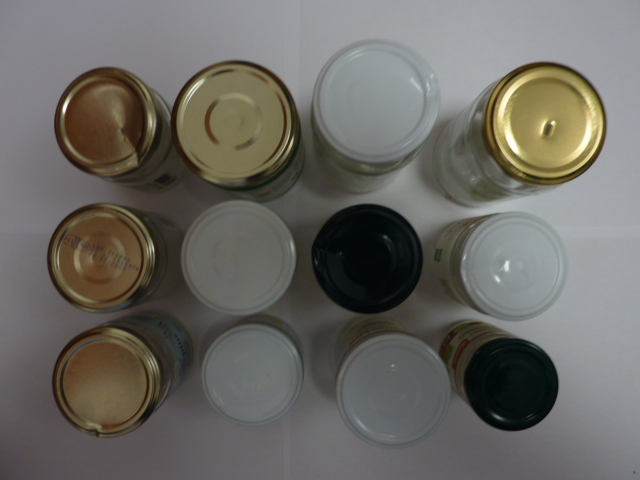damaged: (487, 64, 607, 180), (458, 210, 569, 322)
intact: (170, 61, 297, 185), (313, 39, 441, 162), (179, 197, 297, 316), (338, 332, 452, 449), (46, 203, 156, 312), (202, 323, 302, 425), (468, 340, 561, 433)
